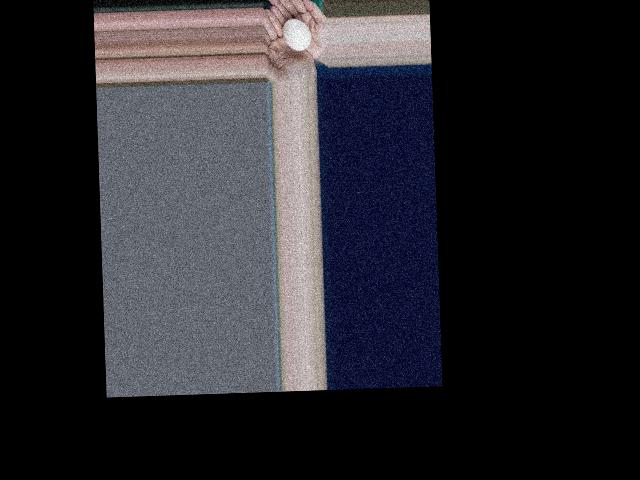egg: (282, 18, 310, 50)
